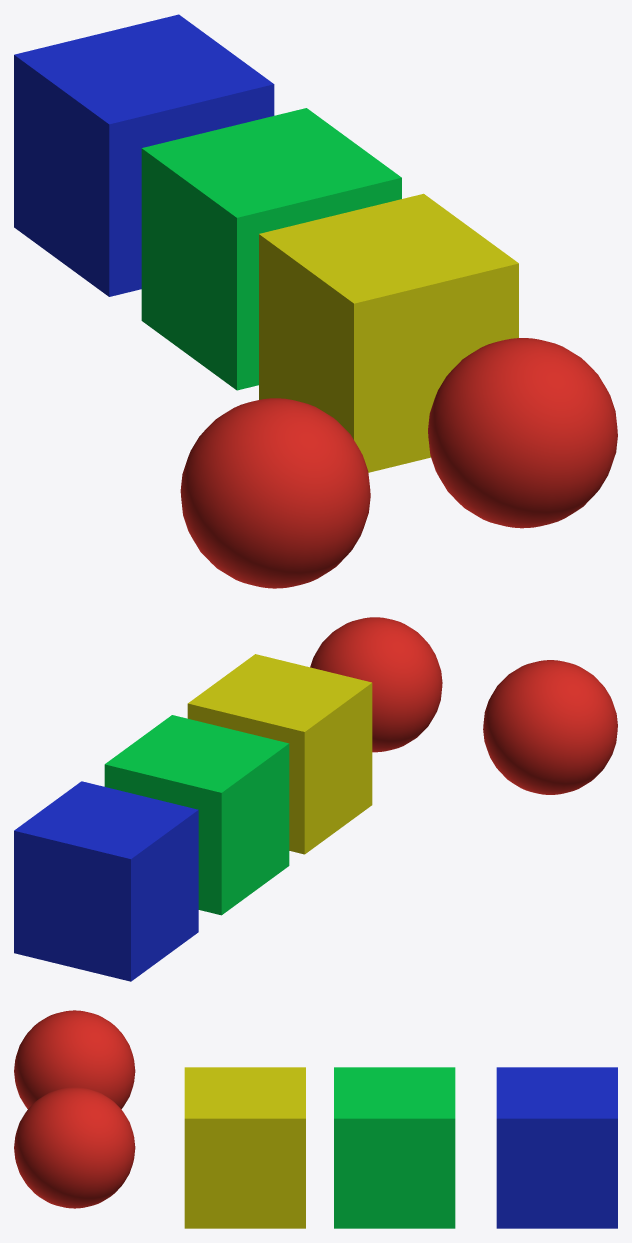
The model's file is kusocube2.fbx.
3 renders of one model, top to bottom at view 1: azimuth 30°, elevation 25°; view 2: azimuth 150°, elevation 25°; view 3: azimuth 270°, elevation 25°, orthographic. The views are drawn at different scales.
Parts seen in each view (by area): view 1: a.001, a, d, a.002; view 2: d, a.001, a.002, a; view 3: a.001, a.002, d, a.
Boxes of the visible parts, x1=… form: a.001: x1=180, y1=338, x2=617, y2=588; a: x1=259, y1=193, x2=518, y2=472; d: x1=14, y1=14, x2=274, y2=296; a.002: x1=141, y1=108, x2=401, y2=390; d: x1=14, y1=781, x2=198, y2=981; a.001: x1=310, y1=617, x2=617, y2=794; a.002: x1=104, y1=715, x2=289, y2=915; a: x1=187, y1=654, x2=372, y2=854; a.001: x1=14, y1=1010, x2=135, y2=1208; a.002: x1=334, y1=1067, x2=455, y2=1228; d: x1=496, y1=1067, x2=617, y2=1228; a: x1=184, y1=1067, x2=305, y2=1228.
Size of the model in its own units: 500 by 200 by 995.
